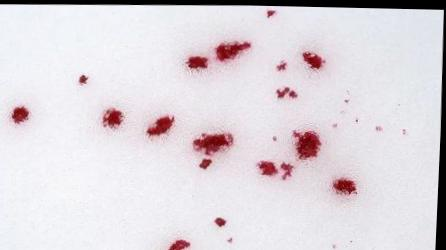Fire: (195, 131, 236, 167), (296, 129, 323, 158), (259, 159, 297, 177), (216, 41, 252, 59), (334, 175, 361, 198), (149, 116, 176, 134), (104, 107, 125, 126), (304, 49, 326, 66), (13, 105, 30, 122), (278, 85, 299, 97), (171, 239, 193, 250), (187, 55, 207, 67), (277, 58, 289, 68), (217, 216, 229, 225), (79, 74, 89, 83), (268, 8, 278, 15)
